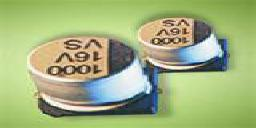Electrolytic-Capacitor: (24, 36, 148, 119), (136, 13, 232, 78)
